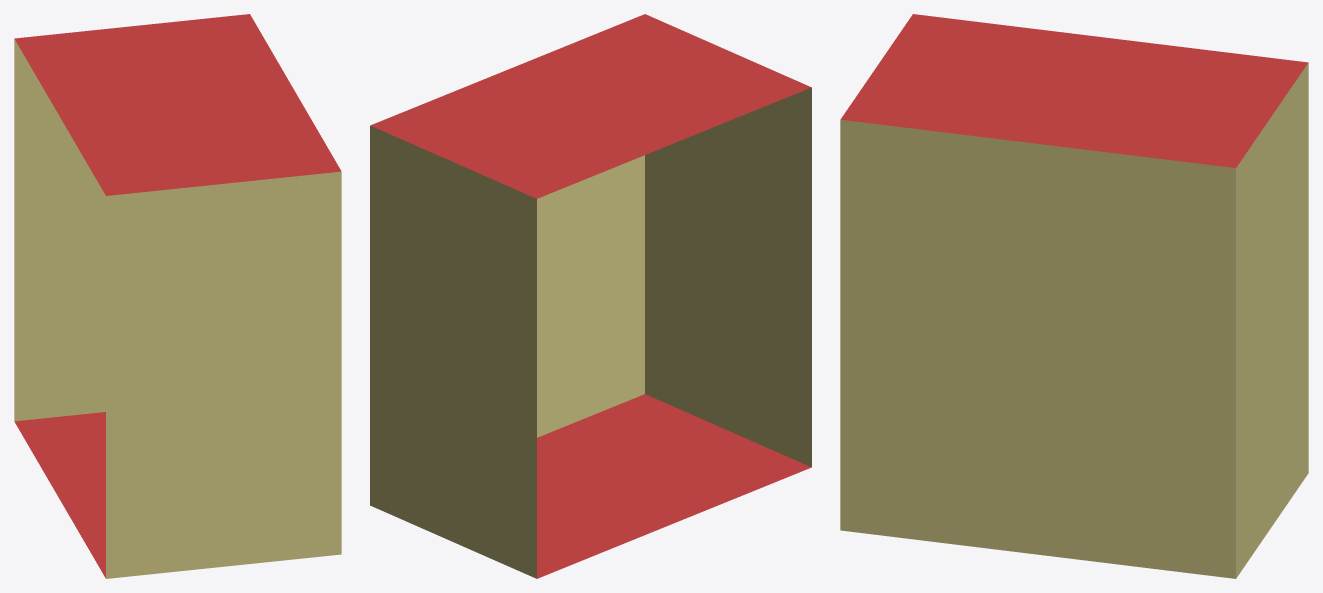
3 renders of one model, left to right at view 1: azimuth 30°, elevation 25°; view 2: azimuth 150°, elevation 25°; view 3: azimuth 270°, elevation 25°, orthographic. The views are drawn at different scales.
Size of the model in its own units: 5.52 by 7.09 by 6.86.
